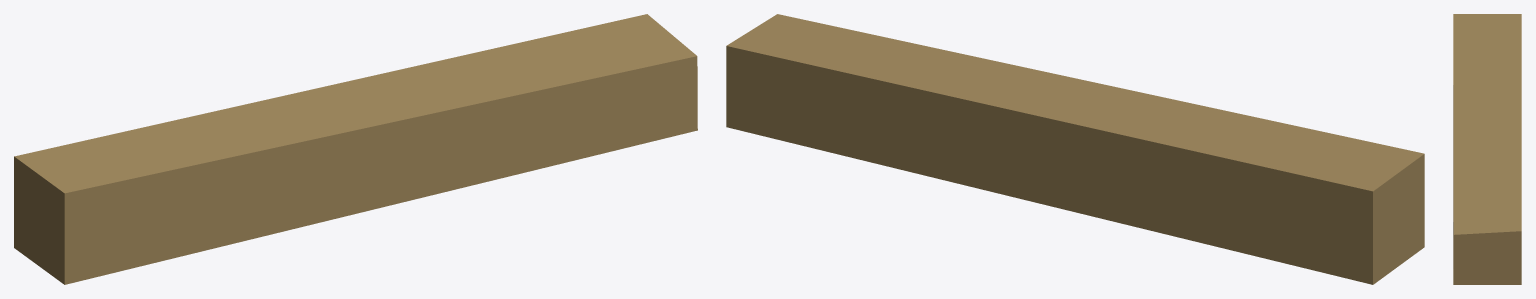
Rendered from Beam_Small_03.fbx.
The picture shows the model from 3 angles, left to right: view 1: azimuth 30°, elevation 25°; view 2: azimuth 150°, elevation 25°; view 3: azimuth 270°, elevation 25°; orthographic projection. The views are drawn at different scales.
Visible parts, largest first — view 1: Beam_Small_03; view 2: Beam_Small_03; view 3: Beam_Small_03.
Part boxes in pixels (x1=…): Beam_Small_03: x1=14, y1=14, x2=697, y2=284; Beam_Small_03: x1=726, y1=14, x2=1424, y2=284; Beam_Small_03: x1=1453, y1=14, x2=1521, y2=284.
Size of the model in its own units: 58.81 by 8.13 by 8.13.
